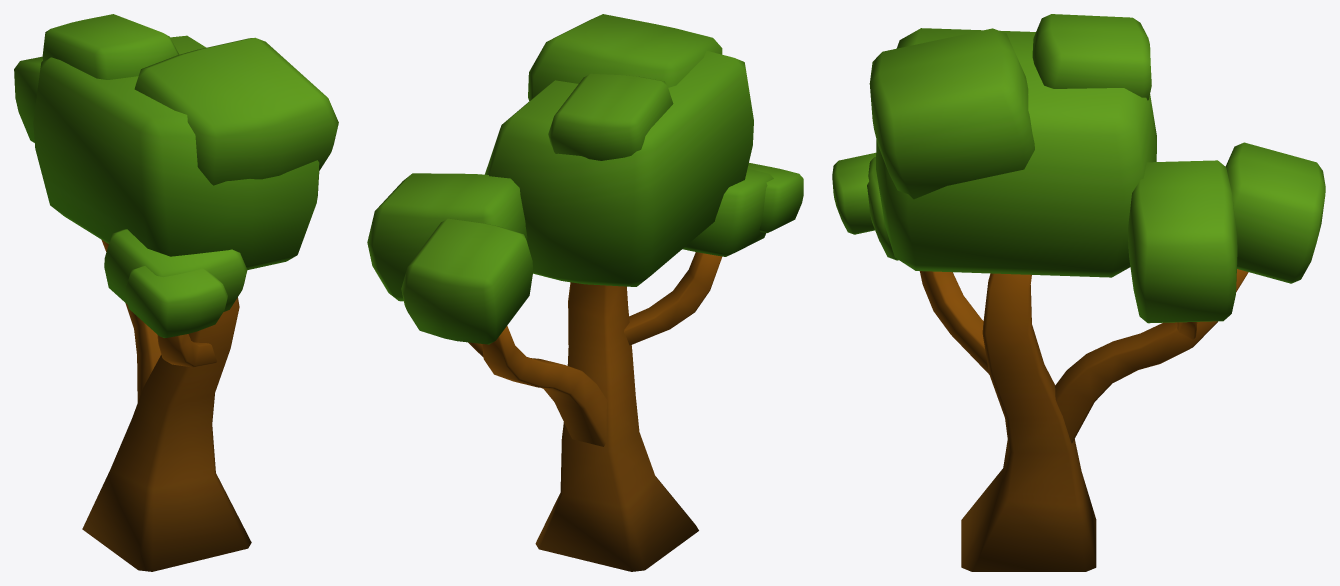
Rendered from Tree_3_4.obj.
3 renders of one model, left to right at view 1: azimuth 30°, elevation 25°; view 2: azimuth 150°, elevation 25°; view 3: azimuth 270°, elevation 25°, orthographic. The views are drawn at different scales.
Parts seen in each view (by area): view 1: Tree_3_4; view 2: Tree_3_4; view 3: Tree_3_4.
Part boxes in pixels (x1,y1,x2,y2): Tree_3_4: (14, 14, 338, 571); Tree_3_4: (367, 14, 803, 571); Tree_3_4: (832, 14, 1325, 571).
Size of the model in its own units: 2.41 by 4.13 by 3.68.
